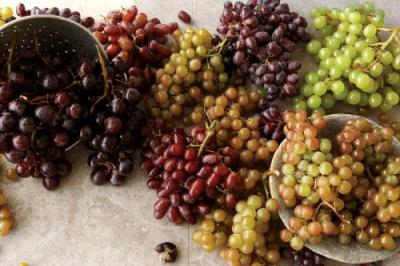Green grapes: (316, 18, 379, 108)
